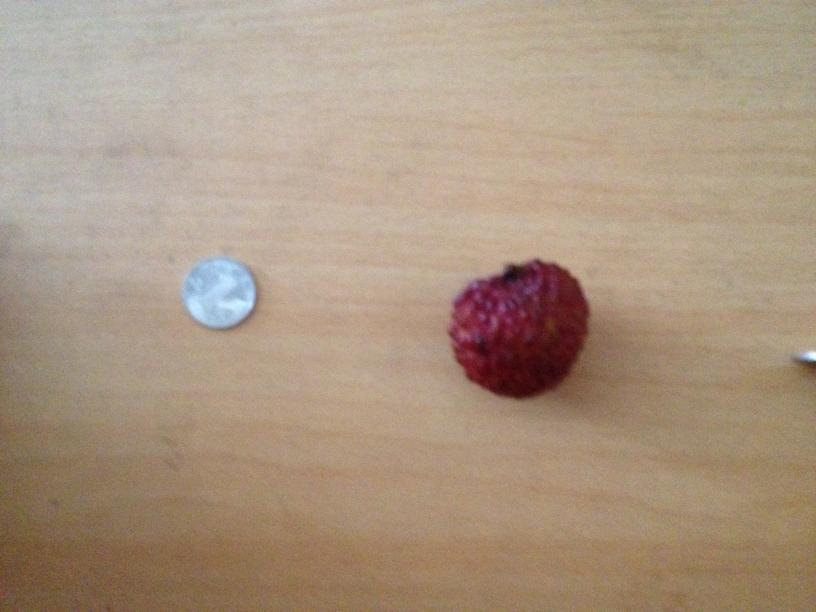coin: (181, 258, 256, 329)
litchi: (454, 256, 586, 397)
